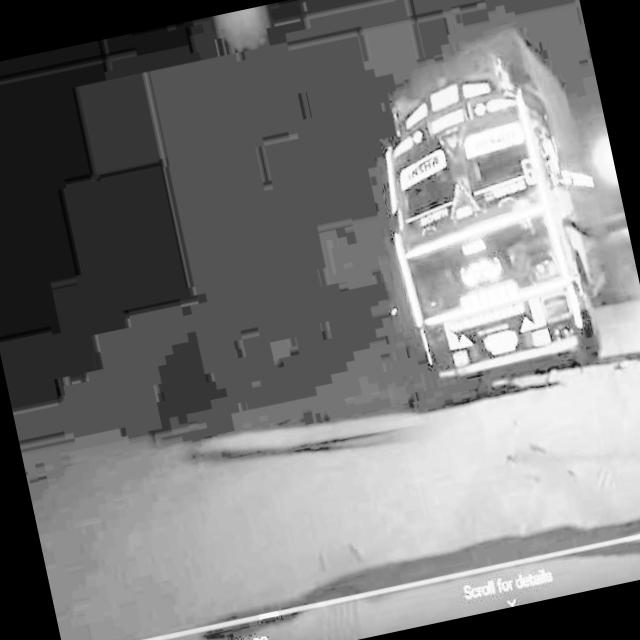Truck: (351, 16, 632, 398)
